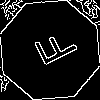F: (25, 25, 79, 73)
